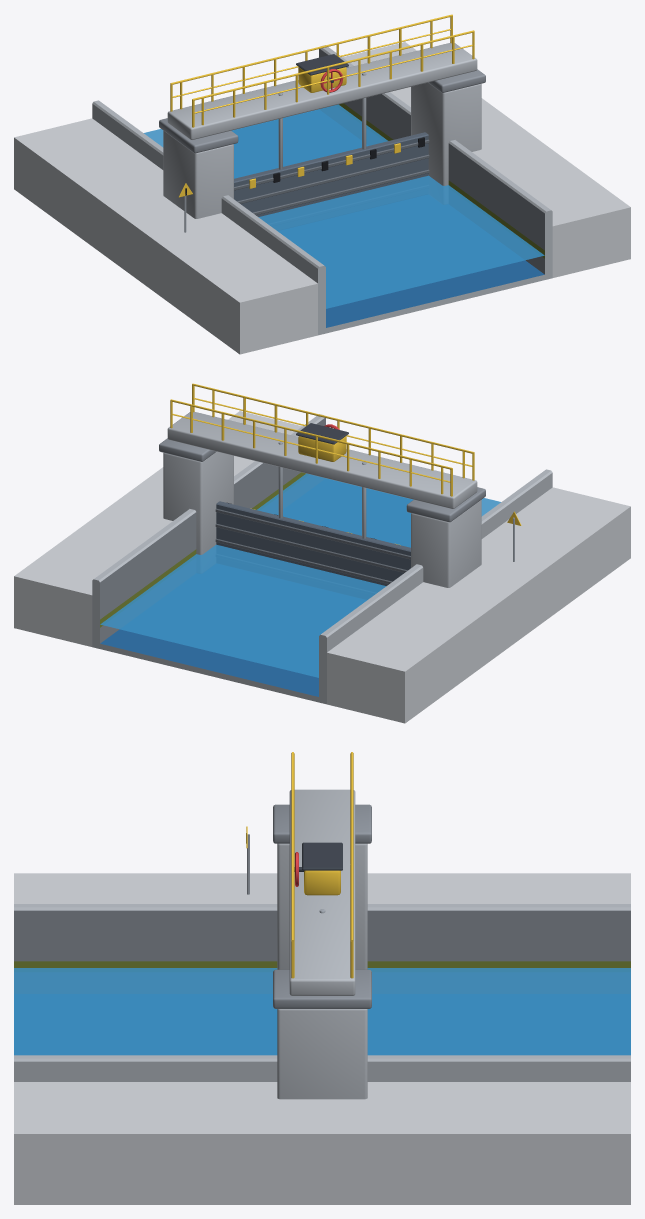
The model's file is comporta_canal.glb.
3 renders of one model, top to bottom at view 1: azimuth 30°, elevation 25°; view 2: azimuth 150°, elevation 25°; view 3: azimuth 270°, elevation 25°, orthographic. The views are drawn at different scales.
Parts seen in each view (by area): view 1: comporta_canal, comporta; view 2: comporta_canal, comporta; view 3: comporta_canal.
Boxes of the visible parts, <box> form: comporta_canal: <box>14,14,630,354</box>; comporta: <box>234,132,429,216</box>; comporta_canal: <box>14,383,630,723</box>; comporta: <box>215,501,410,585</box>; comporta_canal: <box>14,752,630,1204</box>.
Bounding box in the file's own units: 15 × 6.13 × 15.
2 materials, 1 textured.
